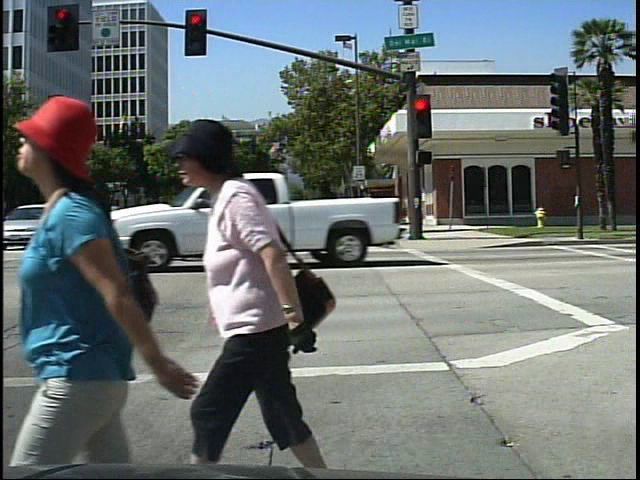person: (179, 110, 362, 472), (35, 78, 179, 469)
